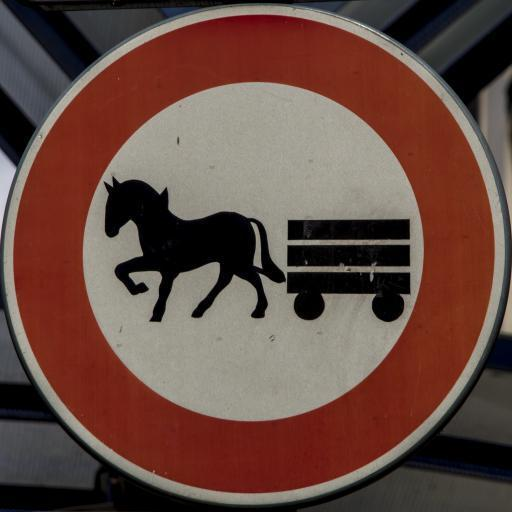horse: (102, 172, 288, 324)
